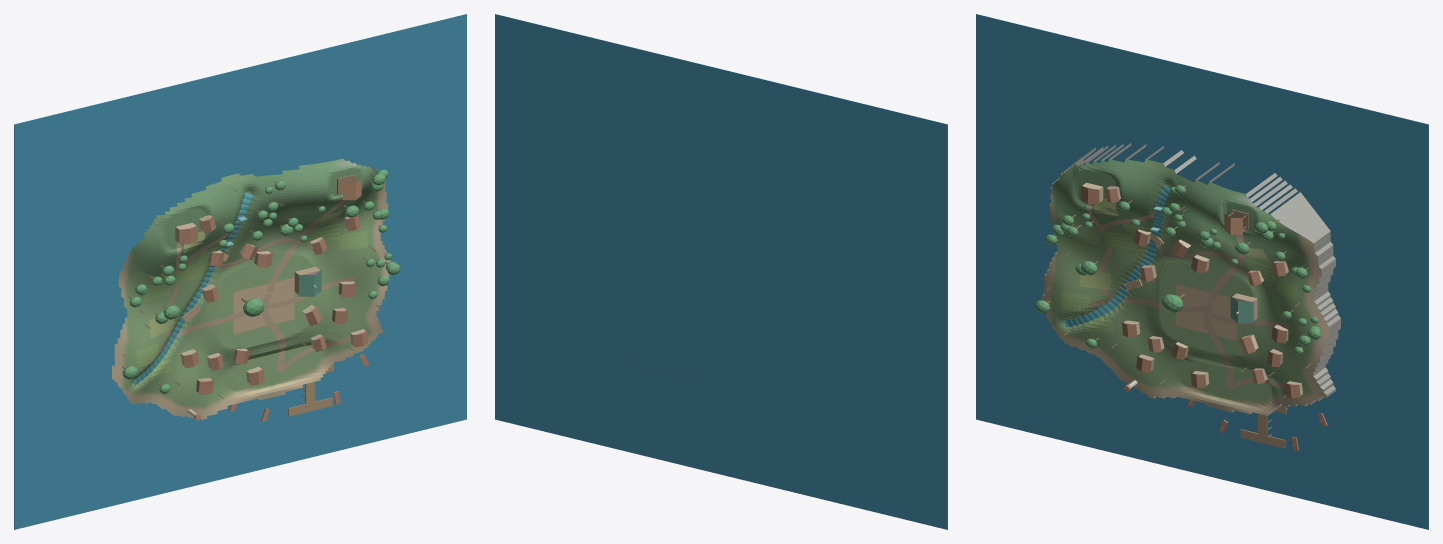
Rendered from island_blockout.glb.
3 views of the same model, side by side, from view 1: azimuth 30°, elevation 25°; view 2: azimuth 150°, elevation 25°; view 3: azimuth 330°, elevation 25° (orthographic).
Parts seen in each view (by area): view 1: 02_OCEAN_Sea_Plane, 01_TERRAIN_Topography_Editable_1m_Grid, 13_VEGETATION_Forest_Tree_Canopies, 05_VILLAGE_Central_Gathering_Square_30x20m, 03_RIVER_Main_Meandering_Stream, 04_ROAD_Village_To_Northern_Hills, 04_ROAD_Village_To_Harbor; view 2: 02_OCEAN_Sea_Plane; view 3: 02_OCEAN_Sea_Plane, 01_TERRAIN_Topography_Editable_1m_Grid, 01_Coast_Cliff_Skirts, 13_VEGETATION_Forest_Tree_Canopies, 05_VILLAGE_Central_Gathering_Square_30x20m, 03_RIVER_Main_Meandering_Stream, 04_ROAD_Village_To_Harbor, 08_LANDMARK_Civic_Green_Roof.
Boxes of the visible parts, box(x1,y1,x2,y2) form: 02_OCEAN_Sea_Plane: box(14, 14, 466, 529); 01_TERRAIN_Topography_Editable_1m_Grid: box(112, 158, 390, 419); 13_VEGETATION_Forest_Tree_Canopies: box(122, 169, 400, 393); 05_VILLAGE_Central_Gathering_Square_30x20m: box(233, 277, 294, 333); 03_RIVER_Main_Meandering_Stream: box(133, 192, 252, 386); 04_ROAD_Village_To_Northern_Hills: box(266, 196, 345, 292); 04_ROAD_Village_To_Harbor: box(261, 293, 285, 370); 02_OCEAN_Sea_Plane: box(495, 14, 947, 529); 02_OCEAN_Sea_Plane: box(976, 14, 1428, 529); 01_TERRAIN_Topography_Editable_1m_Grid: box(1042, 159, 1329, 415); 01_Coast_Cliff_Skirts: box(1042, 143, 1340, 415); 13_VEGETATION_Forest_Tree_Canopies: box(1034, 185, 1320, 354); 05_VILLAGE_Central_Gathering_Square_30x20m: box(1175, 284, 1236, 340); 03_RIVER_Main_Meandering_Stream: box(1063, 185, 1170, 327); 04_ROAD_Village_To_Harbor: box(1203, 301, 1233, 387); 08_LANDMARK_Civic_Green_Roof: box(1230, 296, 1253, 323).
Size of the model in its own units: 215 by 184 by 35.89.
